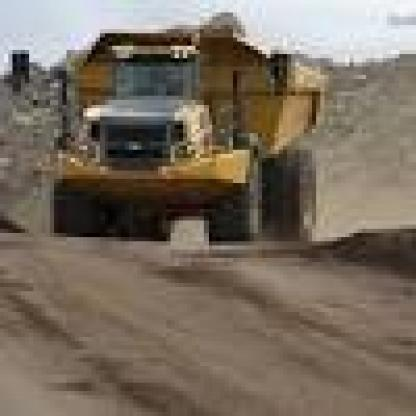dump_truck: (212, 50, 416, 416)
